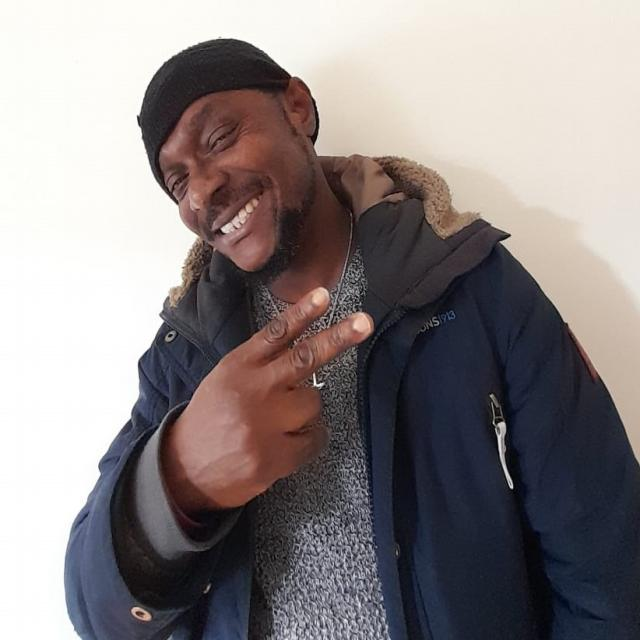happy: (135, 34, 327, 286)
